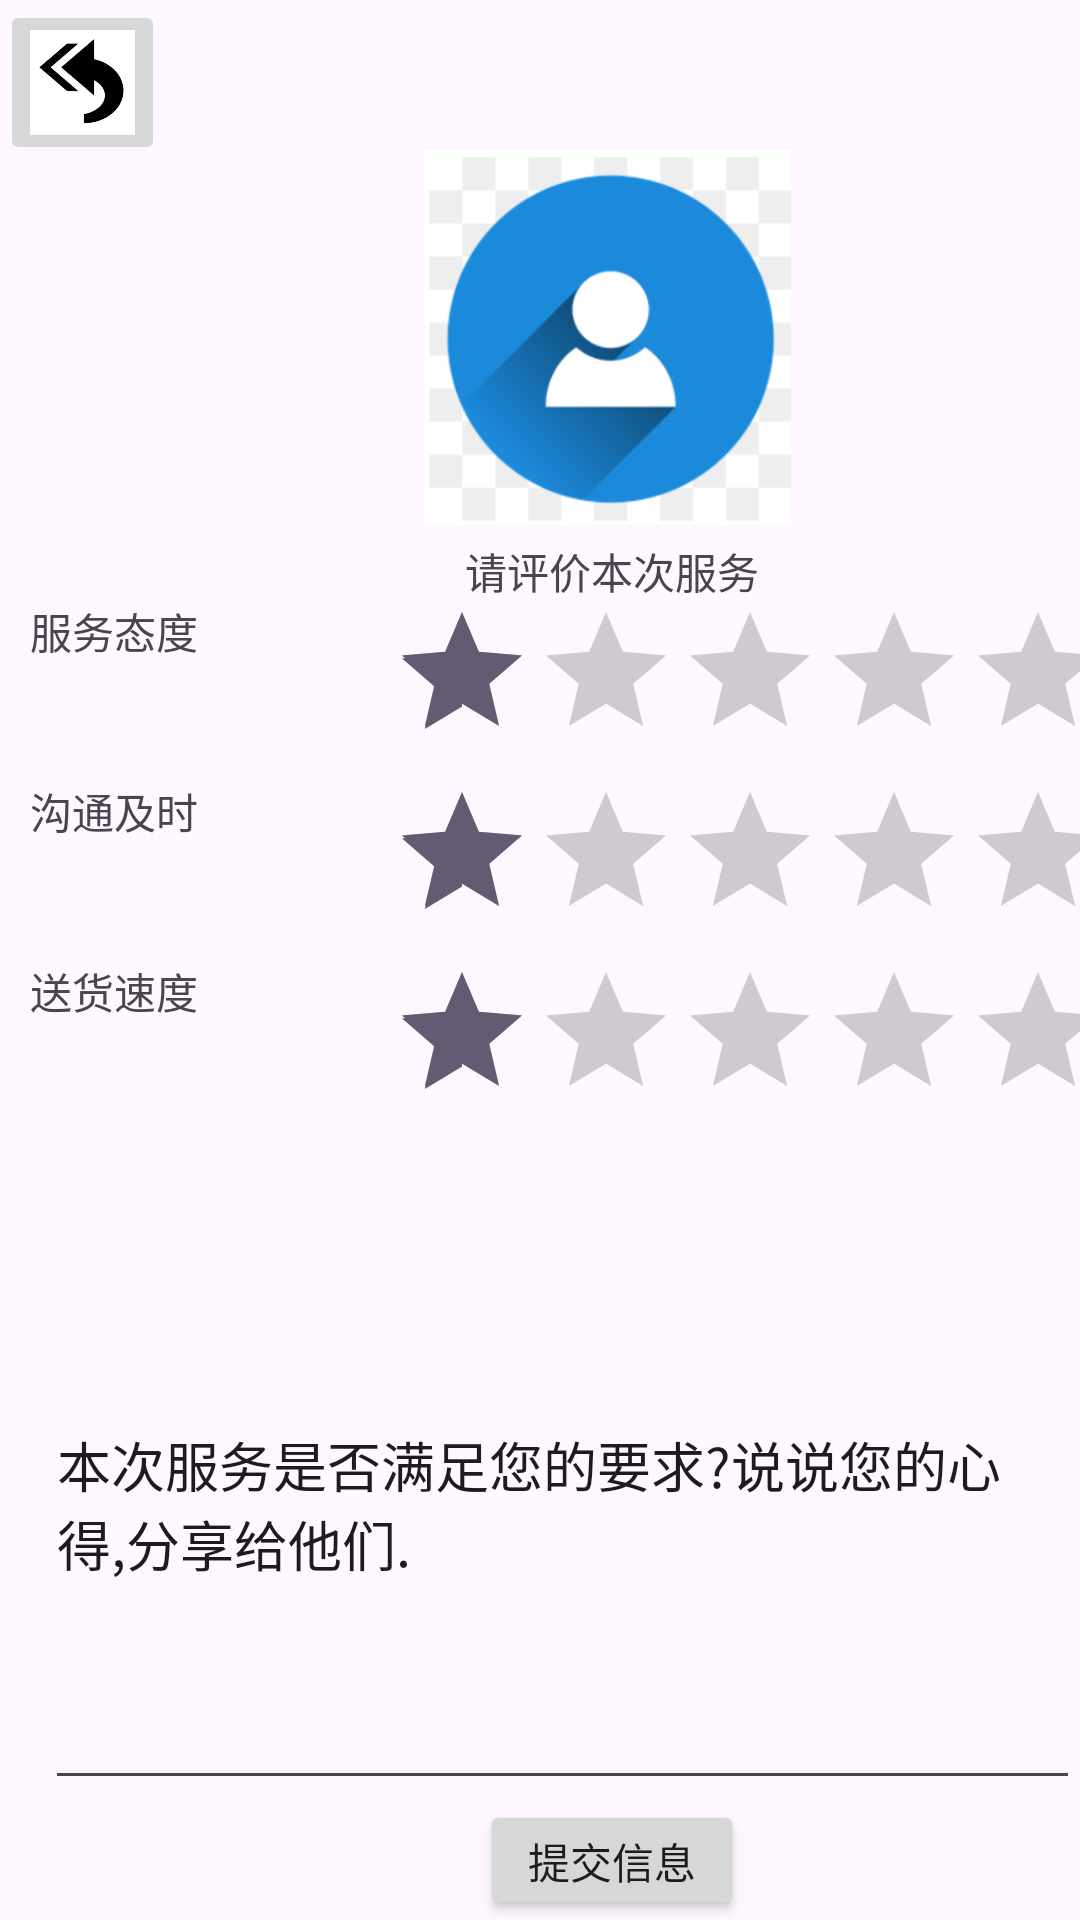

Icons on this 1080 × 1920 Android screen, each with the point to tap as [x,y]:
back: [82,82]
user: [610,339]
